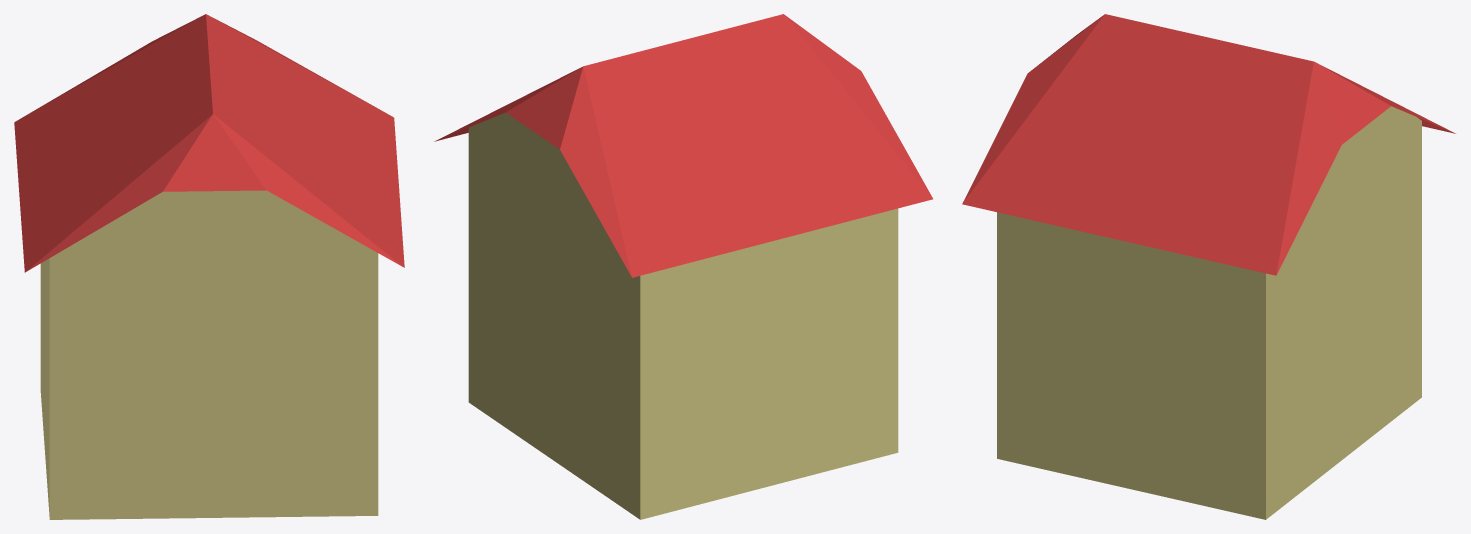
3 renders of one model, left to right at view 1: azimuth 30°, elevation 25°; view 2: azimuth 150°, elevation 25°; view 3: azimuth 270°, elevation 25°, orthographic.
Parts seen in each view (by area): view 1: group_5, group_3, group_4; view 2: group_5, group_3, group_4; view 3: group_5, group_3, group_4.
Part boxes in pixels (x1=…): group_5: x1=40, y1=190, x2=378, y2=519; group_3: x1=25, y1=14, x2=404, y2=272; group_4: x1=14, y1=32, x2=392, y2=272; group_5: x1=468, y1=112, x2=898, y2=519; group_3: x1=499, y1=14, x2=932, y2=274; group_4: x1=434, y1=71, x2=932, y2=277; group_5: x1=997, y1=106, x2=1421, y2=519; group_3: x1=962, y1=14, x2=1455, y2=275; group_4: x1=1028, y1=48, x2=1453, y2=274.
Bounding box in the file's own units: 19.6 × 19.22 × 16.73.
